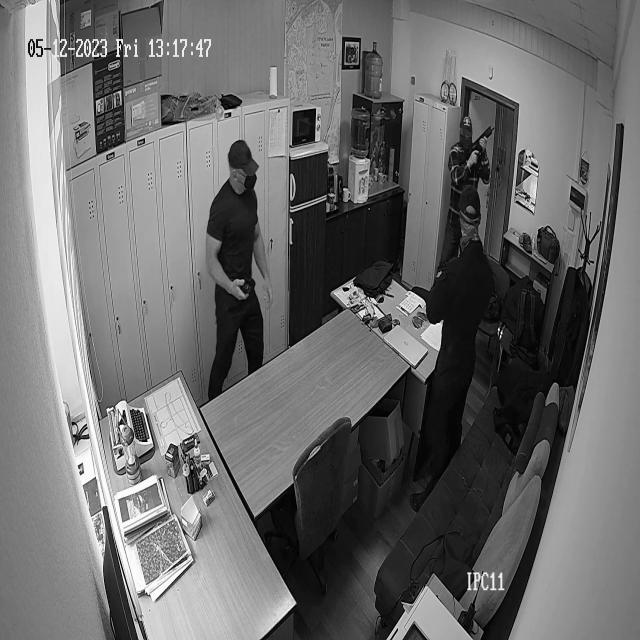person: (410, 186, 496, 514), (204, 138, 274, 404)
person with a gun: (438, 116, 495, 270)
